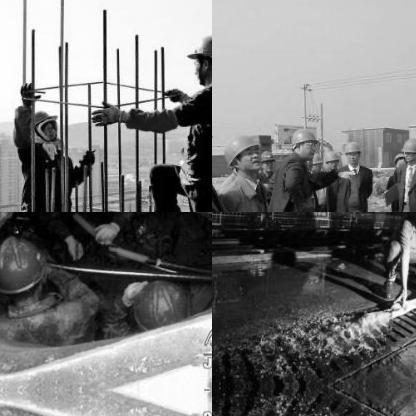Helmet: (120, 275, 196, 334), (0, 235, 56, 305), (224, 131, 262, 175), (187, 28, 211, 84), (288, 126, 318, 162), (32, 106, 58, 144), (340, 139, 362, 168), (399, 136, 415, 166), (258, 146, 274, 174), (321, 148, 339, 172), (391, 152, 405, 172)
